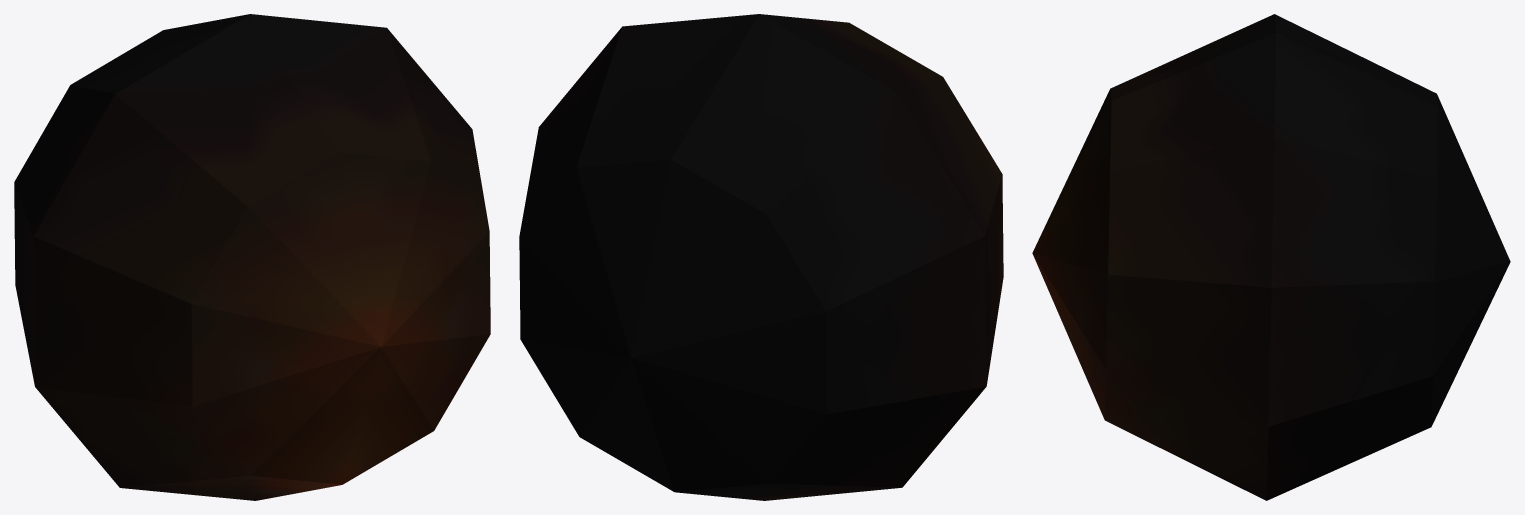
Rendered from 0516_zhuzi.glb.
The picture shows the model from 3 angles, left to right: view 1: azimuth 30°, elevation 25°; view 2: azimuth 150°, elevation 25°; view 3: azimuth 270°, elevation 25°; orthographic projection. The views are drawn at different scales.
Bounding box in the file's own units: 2.09 × 2.2 × 2.12.
Materials: 1 (1 with a texture image).
